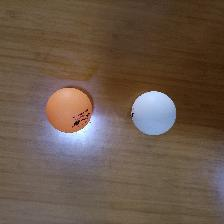WhiteBall: (129, 90, 176, 135)
YellowBall: (45, 87, 92, 134)
